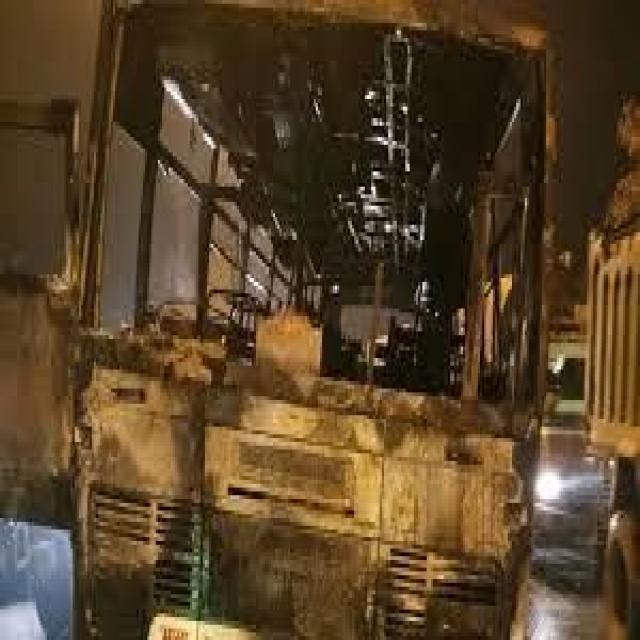other: (515, 451, 567, 515)
